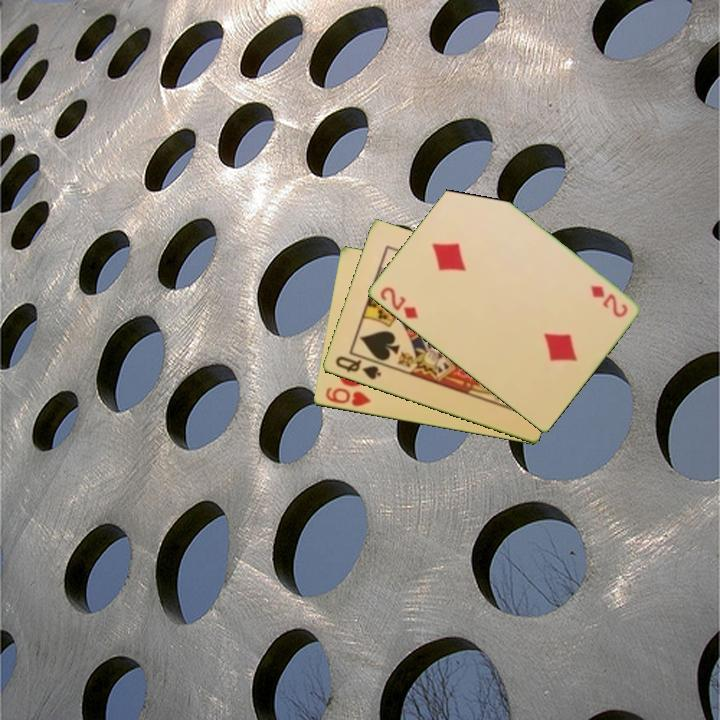2d: (376, 283, 421, 322), (587, 282, 630, 321)
6h: (322, 384, 374, 410)
Qs: (331, 353, 384, 383)
